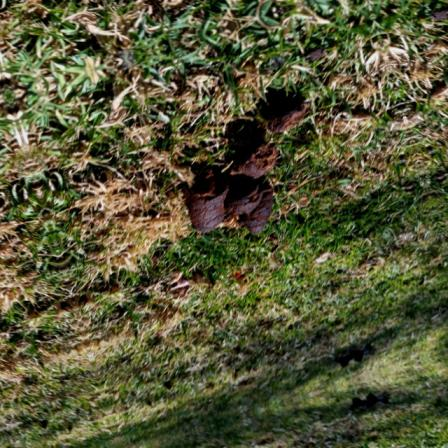dog-poop: (196, 90, 294, 240)
